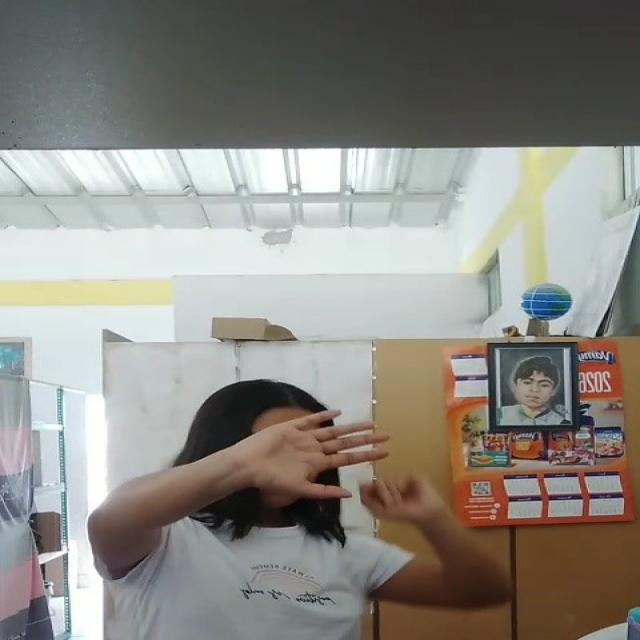7_mano_rostro: (238, 412, 324, 502)
